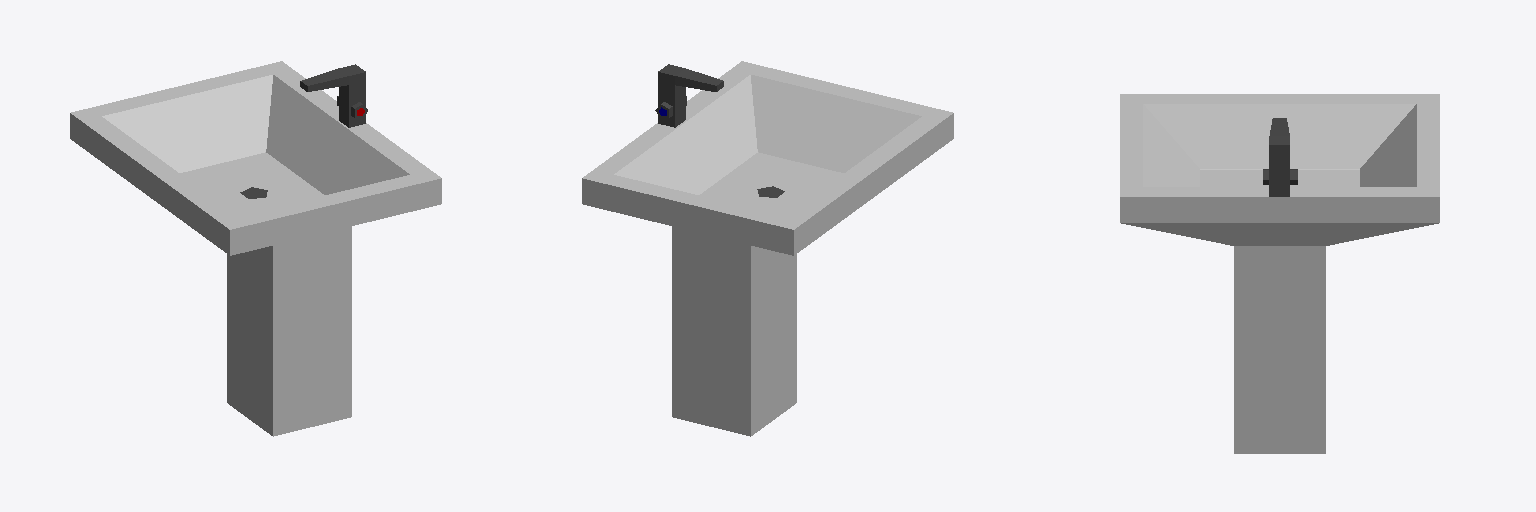
Rendered from sink_1.obj.
3 renders of one model, left to right at view 1: azimuth 30°, elevation 25°; view 2: azimuth 150°, elevation 25°; view 3: azimuth 270°, elevation 25°, orthographic.
Visible parts, largest first — view 1: sink_1; view 2: sink_1; view 3: sink_1.
Part boxes in pixels (x1,y1,x2,y2): sink_1: (70, 61, 441, 436); sink_1: (582, 61, 953, 436); sink_1: (1120, 94, 1439, 453).
Bounding box in the file's own units: 2.13 × 3.12 × 2.79.